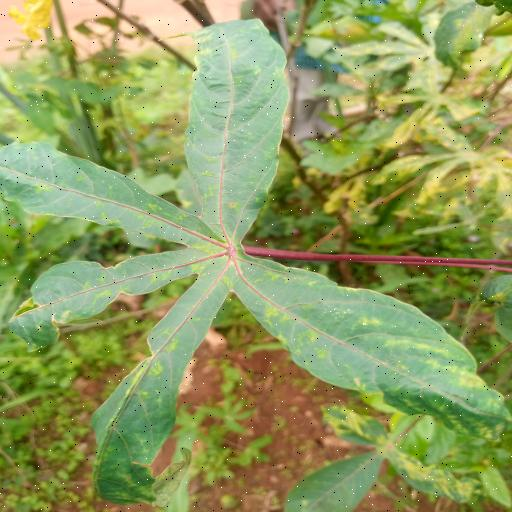Cassava_Mosaic: (4, 16, 510, 507)
